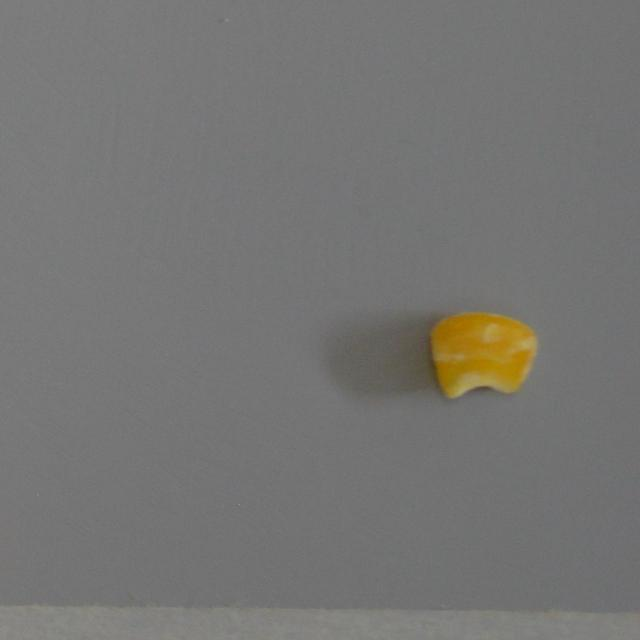pelicula: (426, 308, 540, 403)
